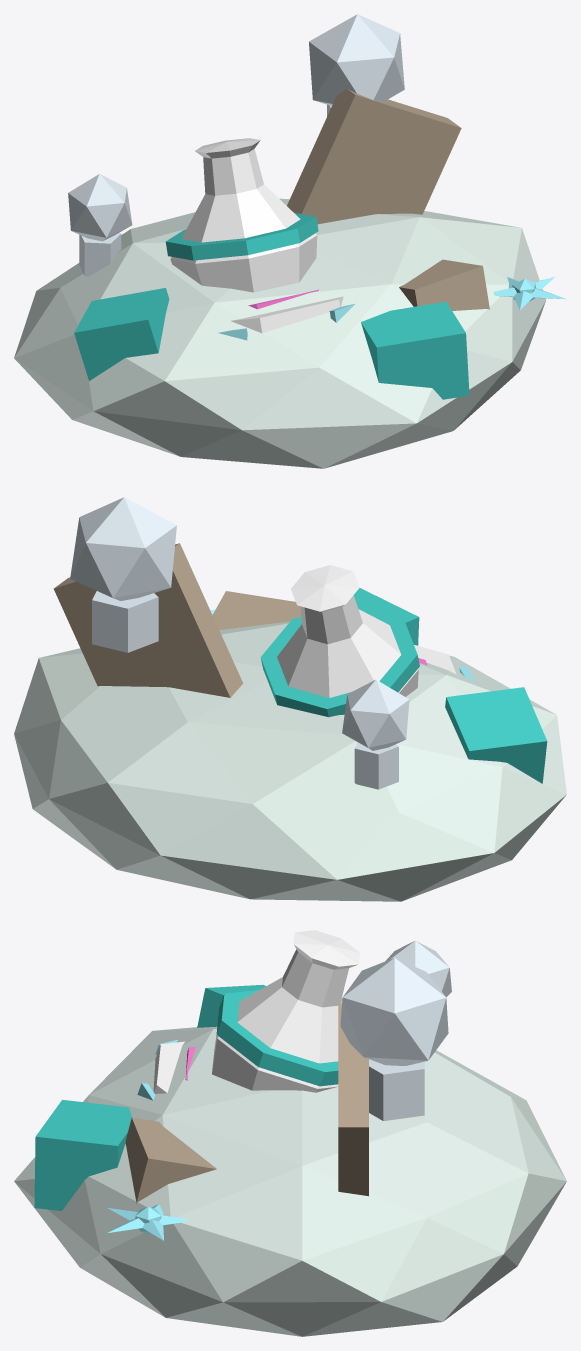
File: lab-ruin.glb
The picture shows the model from 3 angles, top to bottom: view 1: azimuth 30°, elevation 25°; view 2: azimuth 150°, elevation 25°; view 3: azimuth 270°, elevation 25°; orthographic projection. The views are drawn at different scales.
Parts seen in each view (by area): view 1: lab-ruin; view 2: lab-ruin; view 3: lab-ruin.
Part boxes in pixels (x1=…): lab-ruin: x1=14, y1=14, x2=566, y2=468; lab-ruin: x1=14, y1=497, x2=566, y2=901; lab-ruin: x1=14, y1=930, x2=566, y2=1336.
Bounding box in the file's own units: 1.17 × 0.7194 × 1.08.
